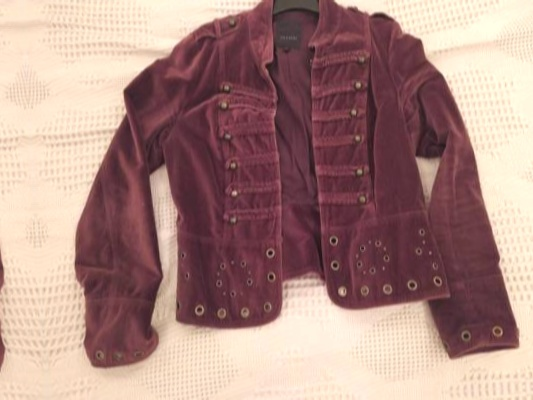Blazer: (48, 0, 515, 393), (0, 13, 21, 400)
